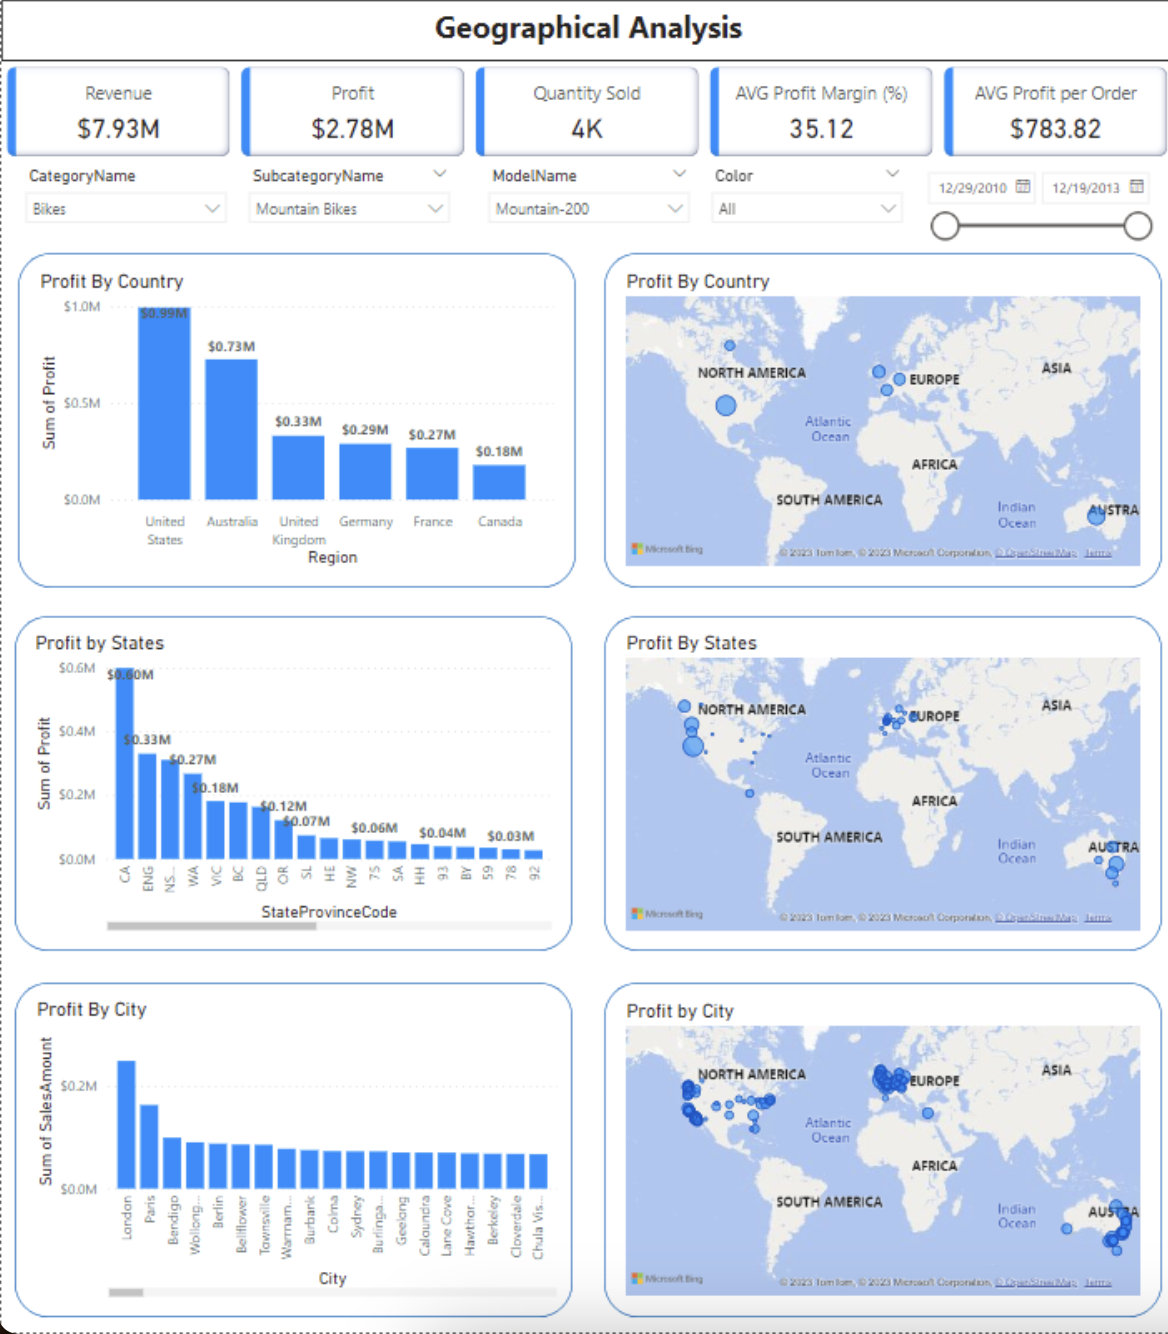

The dashboard page shown, as its layout file describes it:
{"tool":"powerbi","page":{"name":"Where's our customer?","canvas":[1050,1200],"ordinal":0},"visuals":[{"type":"shape","box":[540.3,232.8,500,300],"z":0},{"type":"slicer","fields":{"Values":["Product Analytics.CategoryName"]},"box":[11.9,150.7,200,75],"z":1000},{"type":"shape","box":[540.3,886.6,500,300],"z":2000},{"type":"shape","box":[11.9,886.6,500,300],"z":3000},{"type":"shape","box":[11.9,558.2,500,300],"z":4000},{"type":"shape","box":[540.3,558.2,500,300],"z":5000},{"type":"columnChart","title":"Profit by States","fields":{"Y":["Sum(FactInternetSales.Profit)"],"Category":["DimGeography.StateProvinceCode"]},"box":[25.4,571.6,473.1,273.1],"z":6000},{"type":"columnChart","title":"Profit By City","fields":{"Category":["DimGeography.City"],"Y":["Sum(FactInternetSales.SalesAmount)"]},"box":[26.9,900,476.1,273.1],"z":7000},{"type":"textbox","box":[0,6,1050.7,55.2],"z":8000},{"type":"cardVisual","fields":{"Data":["Sum(FactInternetSales.UnitPrice)","Sum(FactInternetSales.Profit)","Sum(FactInternetSales.OrderQuantity)","Avg(FactInternetSales.Profit Margin)","Avg(FactInternetSales.Profit)"]},"box":[0,61.2,1050,90],"z":9000},{"type":"slicer","fields":{"Values":["Product Analytics.SubcategoryName"]},"box":[211.9,150.7,200,74.6],"z":10000},{"type":"slicer","fields":{"Values":["Product Analytics.ModelName"]},"box":[426.9,150.7,200,74.6],"z":11000},{"type":"map","title":"Profit by City","fields":{"Category":["DimGeography.City"],"Size":["Sum(FactInternetSales.SalesAmount)"]},"box":[555.2,901.5,470.1,270.1],"z":12000},{"type":"shape","box":[14.9,232.8,500,300],"z":13000},{"type":"columnChart","title":"Profit By Country","fields":{"Y":["Sum(FactInternetSales.Profit)"],"Category":["DimGeography.EnglishCountryRegionName"]},"box":[29.9,247.8,470.1,270.1],"z":14000},{"type":"map","title":"Profit By States","fields":{"Category":["DimGeography.StateProvinceCode"],"Size":["Sum(FactInternetSales.Profit)"]},"box":[555.2,571.6,470.1,273.1],"z":15000},{"type":"slicer","fields":{"Values":["FactInternetSales.OrderDate"]},"box":[817.9,150.7,222.4,74.6],"z":16000},{"type":"map","title":"Profit By Country","fields":{"Category":["DimGeography.EnglishCountryRegionName"],"Size":["Sum(FactInternetSales.Profit)"]},"box":[555.2,247.8,470.1,270.1],"z":17000},{"type":"slicer","fields":{"Values":["DimProduct.Color"]},"box":[626.9,150.7,191,74.6],"z":18000}]}

Visuals, with their boxes in screenshot pixels (x1, y1, x2, y2), scaled from the page's 1050x1200 canvas onto the 1168x1334 screenshot:
shape: l=601, t=259, r=1157, b=592
slicer - Product Analytics.CategoryName: l=13, t=168, r=236, b=251
shape: l=601, t=986, r=1157, b=1319
shape: l=13, t=986, r=569, b=1319
shape: l=13, t=621, r=569, b=954
shape: l=601, t=621, r=1157, b=954
"Profit by States" columnChart: l=28, t=635, r=555, b=939
"Profit By City" columnChart: l=30, t=1000, r=560, b=1304
textbox: l=0, t=7, r=1167, b=68
cardVisual - Sum(FactInternetSales.UnitPrice) x Sum(FactInternetSales.Profit): l=0, t=68, r=1167, b=168
slicer - Product Analytics.SubcategoryName: l=236, t=168, r=458, b=250
slicer - Product Analytics.ModelName: l=475, t=168, r=697, b=250
"Profit by City" map: l=618, t=1002, r=1141, b=1302
shape: l=17, t=259, r=573, b=592
"Profit By Country" columnChart: l=33, t=275, r=556, b=576
"Profit By States" map: l=618, t=635, r=1141, b=939
slicer - FactInternetSales.OrderDate: l=910, t=168, r=1157, b=250
"Profit By Country" map: l=618, t=275, r=1141, b=576
slicer - DimProduct.Color: l=697, t=168, r=910, b=250
